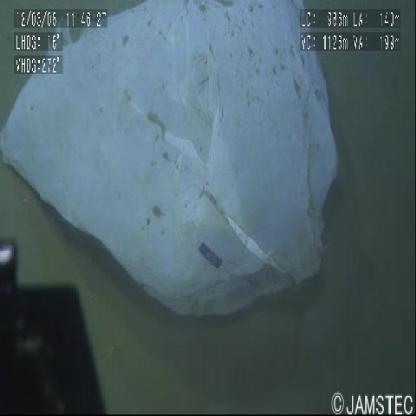Rov: (2, 229, 112, 416)
Rác: (1, 1, 344, 326)
